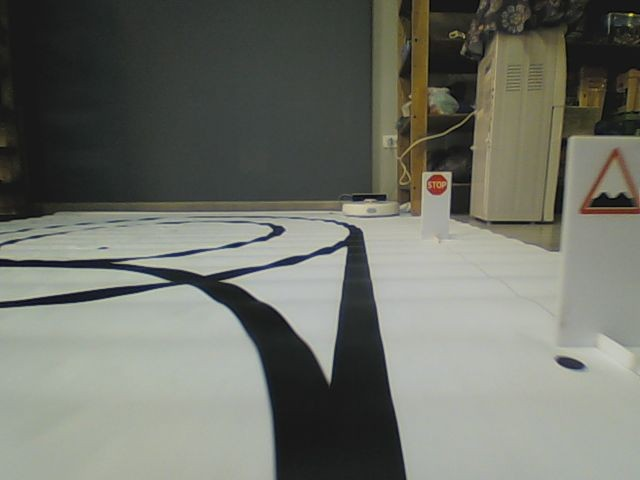Nerov: (579, 148, 640, 216)
Stop: (426, 174, 448, 195)
